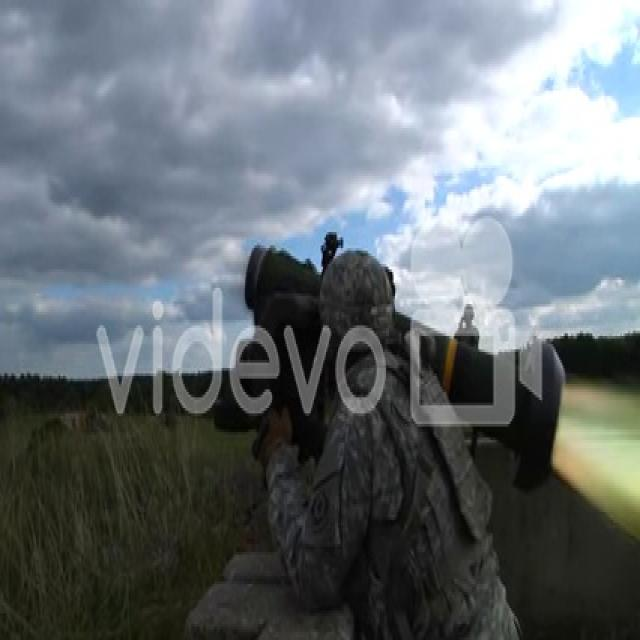bazooka: (242, 237, 574, 501)
